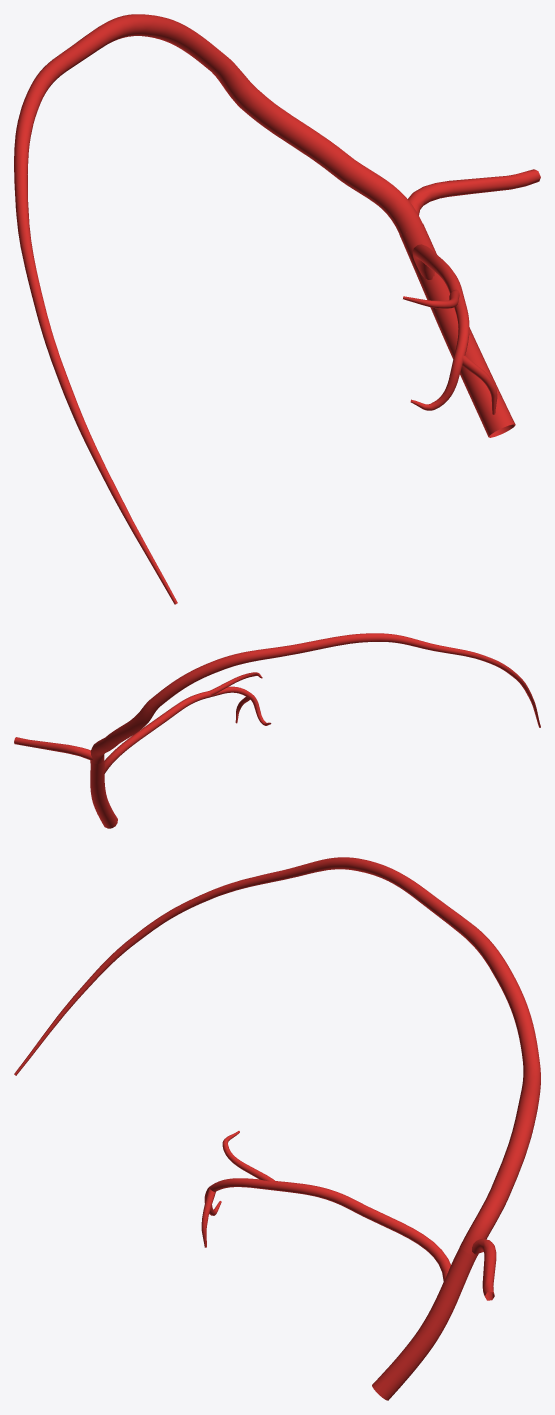
The model's file is circulatorio-iliolumbar-artery-r.glb.
3 renders of one model, top to bottom at view 1: azimuth 30°, elevation 25°; view 2: azimuth 150°, elevation 25°; view 3: azimuth 270°, elevation 25°, orthographic. The views are drawn at different scales.
Parts seen in each view (by area): view 1: Iliacus branch of iliolumbar artery.r, Iliolumbar artery.r, Lumbar branch of iliolumbar artery.r, Spinal branch of iliolumbar artery.r; view 2: Iliacus branch of iliolumbar artery.r, Lumbar branch of iliolumbar artery.r, Iliolumbar artery.r, Spinal branch of iliolumbar artery.r; view 3: Iliacus branch of iliolumbar artery.r, Lumbar branch of iliolumbar artery.r, Iliolumbar artery.r, Spinal branch of iliolumbar artery.r.
Boxes of the visible parts, bbox=[...] form: Iliacus branch of iliolumbar artery.r: bbox=[14, 14, 422, 604]; Iliolumbar artery.r: bbox=[399, 224, 515, 437]; Lumbar branch of iliolumbar artery.r: bbox=[403, 244, 497, 414]; Spinal branch of iliolumbar artery.r: bbox=[408, 169, 540, 215]; Iliacus branch of iliolumbar artery.r: bbox=[90, 633, 540, 763]; Lumbar branch of iliolumbar artery.r: bbox=[104, 672, 271, 773]; Iliolumbar artery.r: bbox=[90, 759, 117, 828]; Spinal branch of iliolumbar artery.r: bbox=[14, 737, 92, 760]; Iliacus branch of iliolumbar artery.r: bbox=[14, 857, 540, 1256]; Lumbar branch of iliolumbar artery.r: bbox=[201, 1131, 450, 1281]; Iliolumbar artery.r: bbox=[372, 1247, 476, 1400]; Spinal branch of iliolumbar artery.r: bbox=[472, 1239, 496, 1300].
Size of the model in its own units: 0.1083 by 0.0693 by 0.0915.
